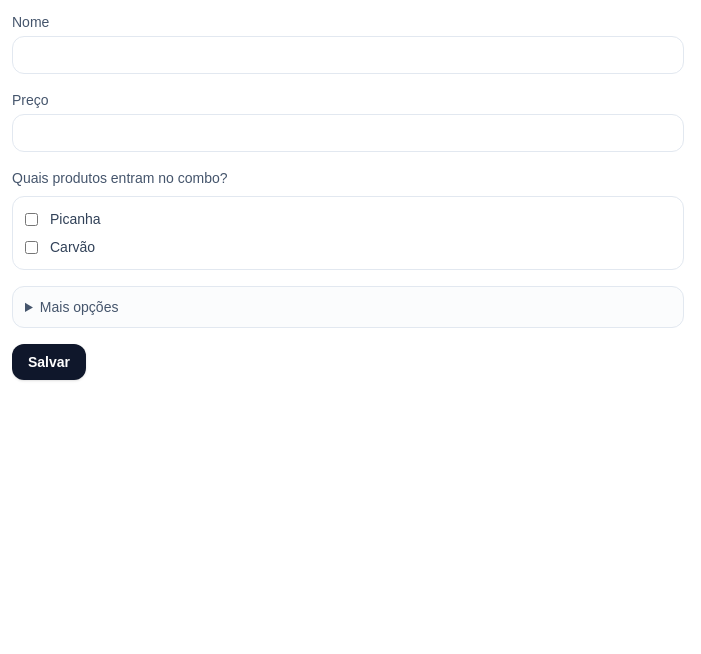
Test case: ComboForm › marca 'Visível no catálogo' por padrão para um novo combo
This screenshot has width=701, height=654.
Click the heading "Mais opções" at (79, 307), box left=40, top=299, right=118, bottom=315
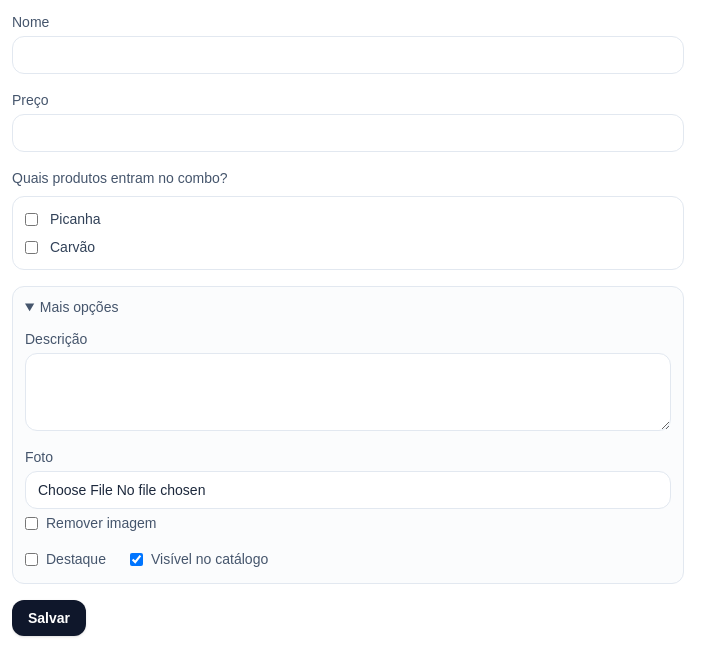
Now the checkbox labelled "Visível no catálogo" is checked, box left=130, top=552, right=143, bottom=566
Now the checkbox labelled "Destaque" is not checked, box left=25, top=552, right=38, bottom=566
